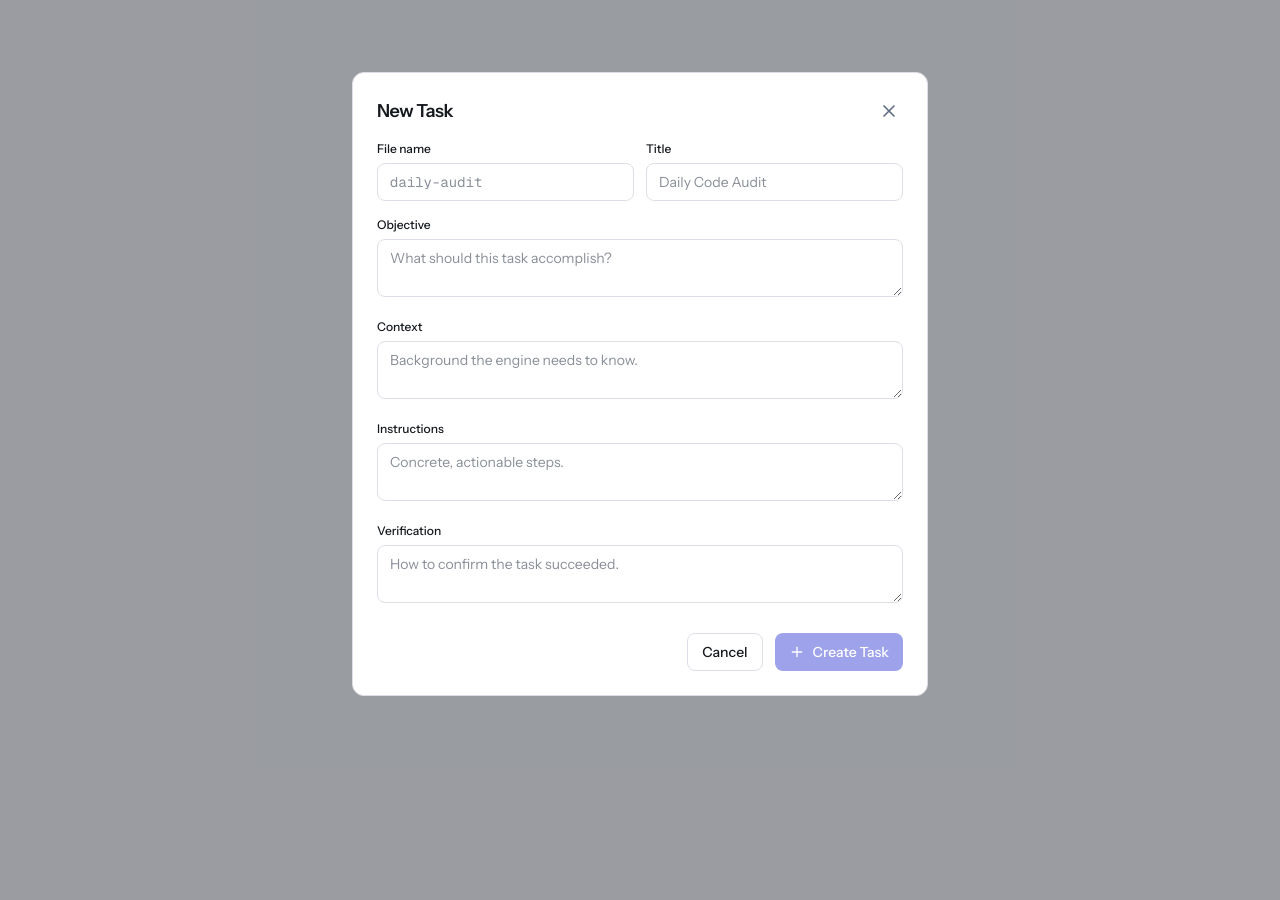
Scenario: NewTaskModal › an invalid file name shows the rule and blocks submit
Type "bad name!" into the field labelled "File name".
click(506, 182); type("bad name!")  # box [377,163,634,201]
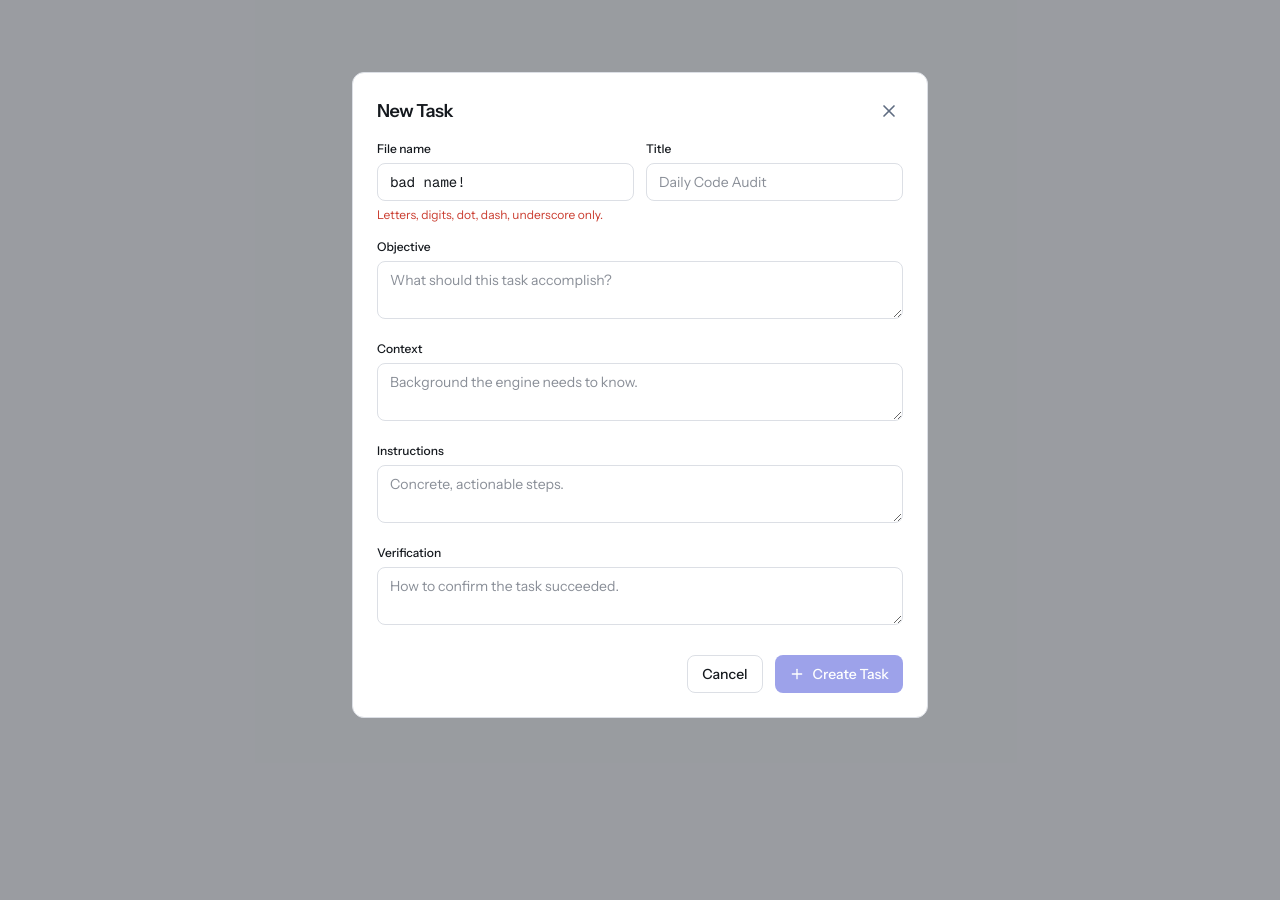
Expected: the button "Create Task" is disabled, [775,655,903,693]
Expected: the text "Letters, digits, dot, dash, underscore only." is shown, [377,207,634,223]
